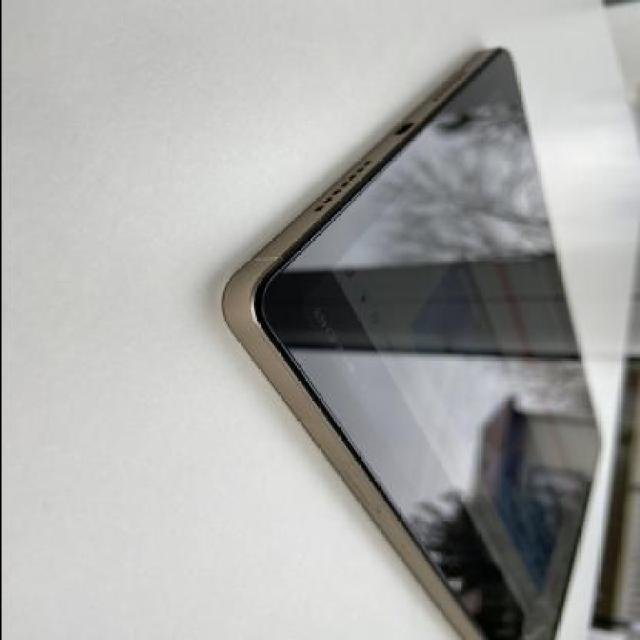smart phone: (212, 104, 619, 626)
